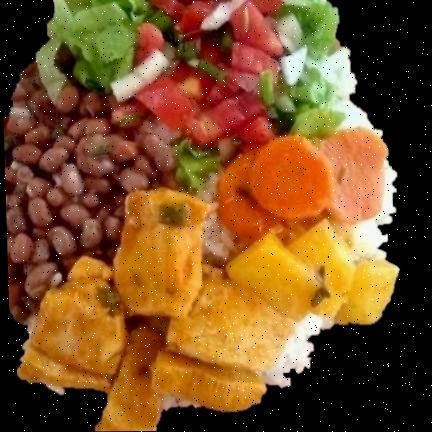beans: (4, 54, 177, 320)
carrot: (219, 127, 391, 236)
cassava: (11, 189, 404, 431)
salad: (35, 0, 337, 187)
tomato: (132, 0, 288, 149)
